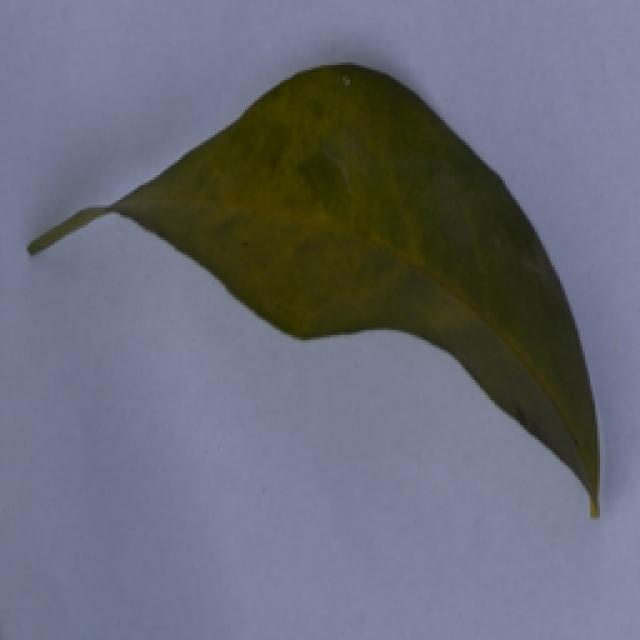greening: (21, 57, 612, 539)
